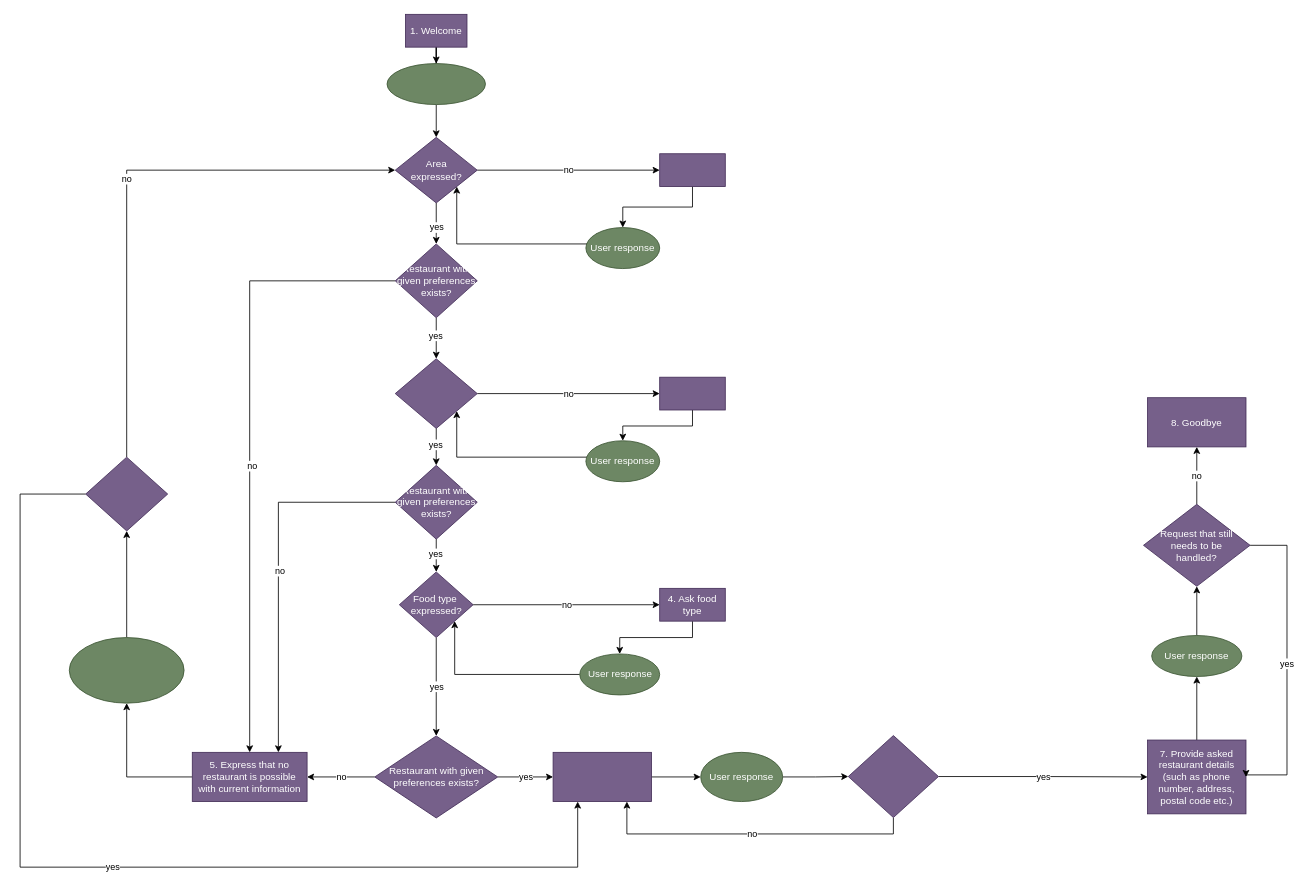
This 1308x888 diagram has some shape labels left out. The shapes that lost their labels are listed below. From the top down, each one's box as (x1, y1, x2, y2) in pixels, then its label:
(386, 63, 485, 105): Express preferences
(659, 153, 725, 187): 2. Ask area
(394, 358, 477, 428): Price range expressed?
(659, 376, 725, 410): 3. Ask price range
(85, 456, 168, 531): User wants a suggestion?
(68, 637, 184, 703): Express new / reviewed preferences
(552, 752, 651, 802): 6. Suggest Restaurant
(847, 735, 938, 818): User asks for restaurant details?
